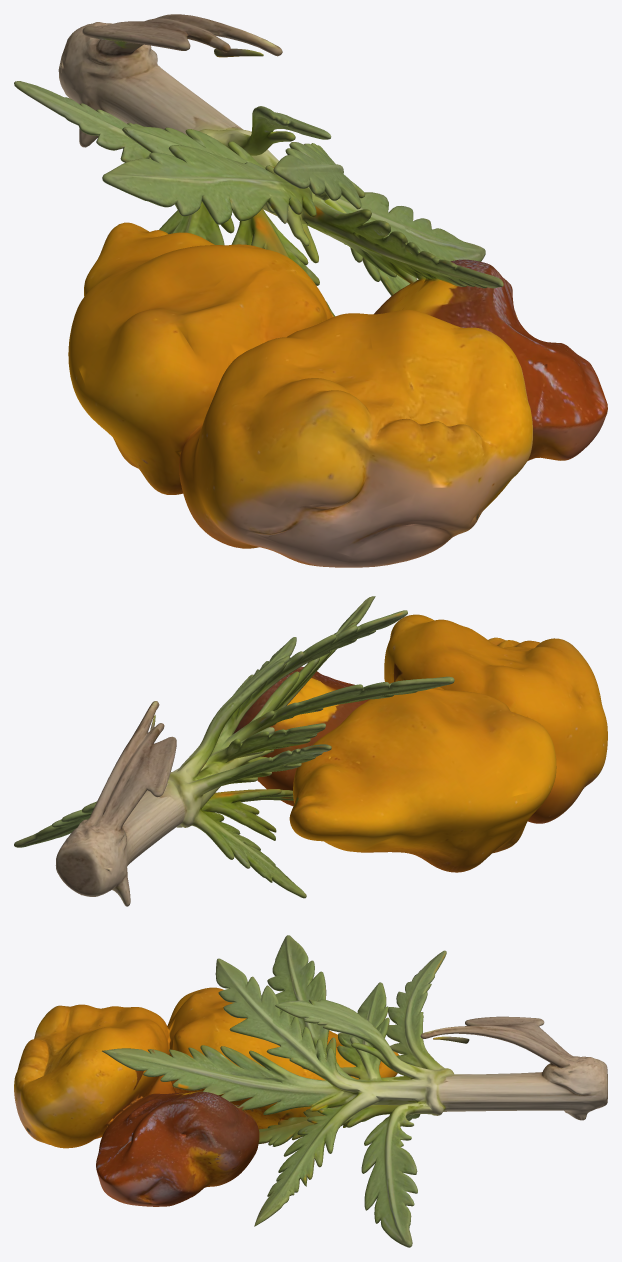
The model's file is awei.glb.
3 renders of one model, top to bottom at view 1: azimuth 30°, elevation 25°; view 2: azimuth 150°, elevation 25°; view 3: azimuth 270°, elevation 25°, orthographic. The views are drawn at different scales.
Visible parts, largest first — view 1: node_0; view 2: node_0; view 3: node_0.
Part boxes in pixels (x1,y1,x2,y2): node_0: (14, 14, 607, 567); node_0: (14, 596, 607, 906); node_0: (14, 935, 607, 1247).
Size of the model in its own units: 0.7802 by 0.4071 by 1.17.
Materials: 1 (1 with a texture image).
